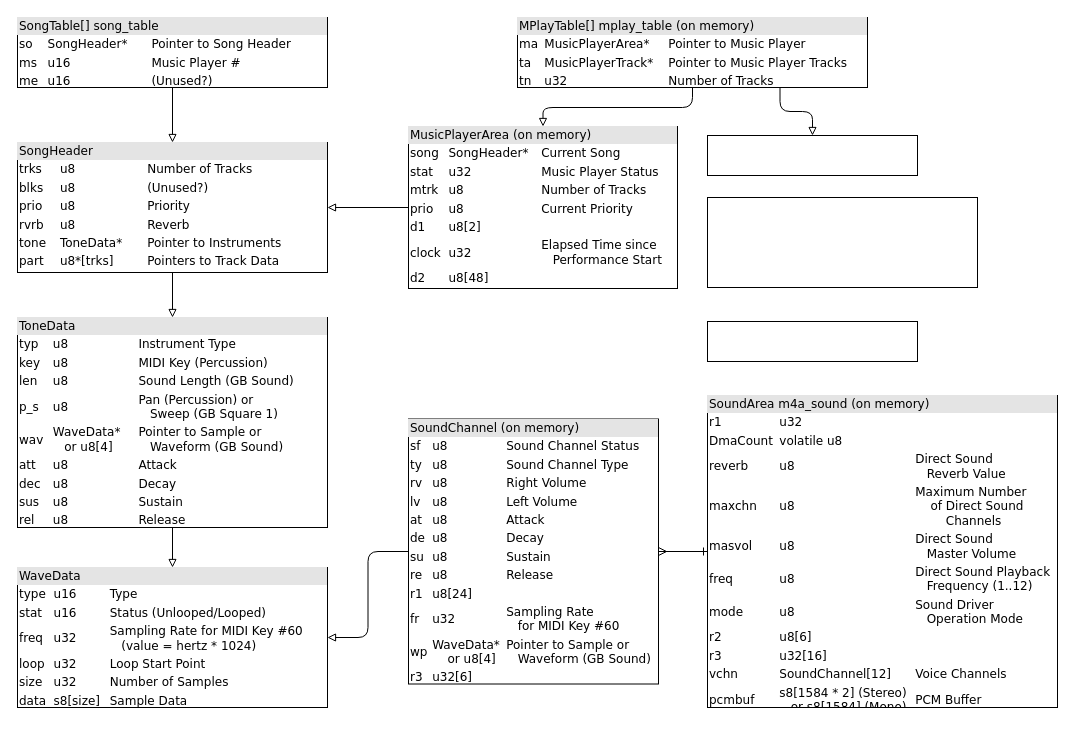
The diagram is 1075 pixels wide and 731 high, and some of its shapes have lost their labels. The box of each missing label's shape, as (x1, y1, x2, y2) in pixels:
CgbChannels m4a_cgbchn (on memory) ch1 u8[64] ch2 u8[64] ch3 u8[64] ch4 u8[64]: (706, 196, 978, 288)
m4a_memacc_area (on memory) m4a_memacc_area u8[0..256]: (706, 320, 918, 362)
MusicPlayerTrack (on memory) d u8[80]: (706, 134, 918, 176)
